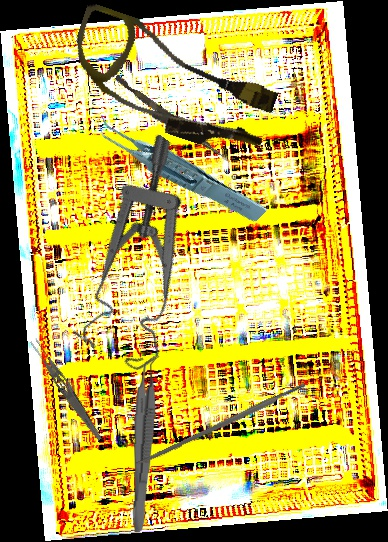Cannula: (56, 1, 287, 164)
Dressing Forceps: (27, 336, 107, 443)
Pusher: (112, 74, 227, 159)
Scalpel Handle: (135, 382, 307, 468)
Speculum: (33, 131, 264, 383)
Tissue Forceps: (91, 81, 269, 253), (130, 355, 161, 533)
